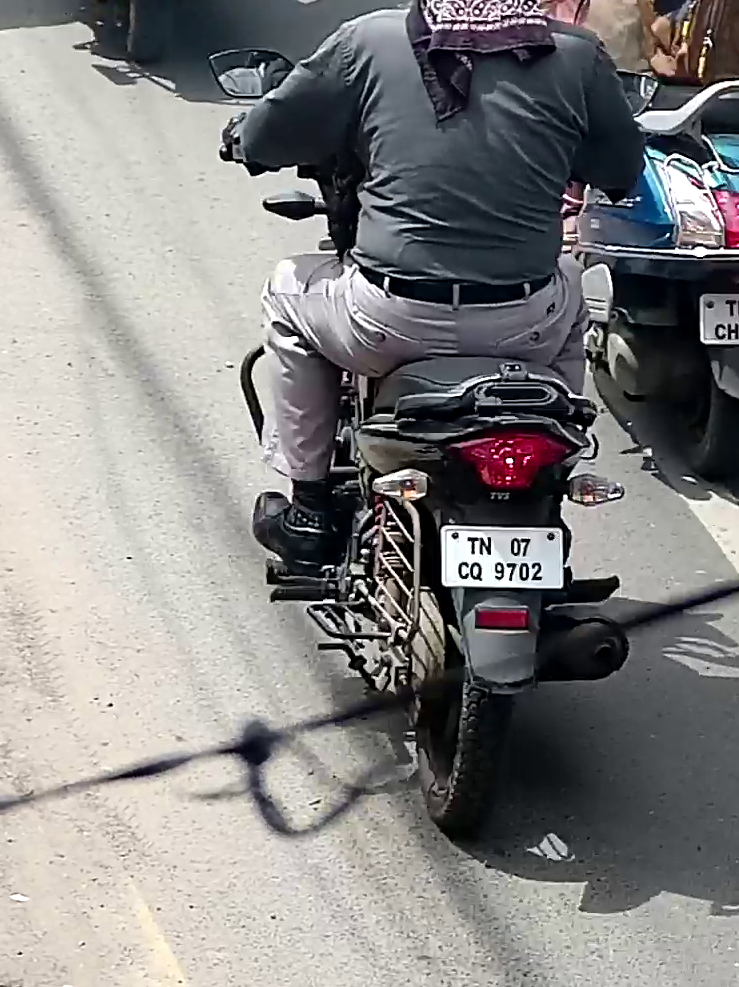0: (517, 562, 530, 581), (510, 537, 520, 556)
2: (531, 562, 543, 581)
7: (505, 562, 517, 581), (520, 537, 531, 557)
9: (494, 562, 505, 580)
C: (458, 561, 469, 580)
N: (479, 536, 492, 556)
P16: (439, 522, 567, 591)
Q: (469, 561, 483, 582)
T: (467, 536, 479, 555)
